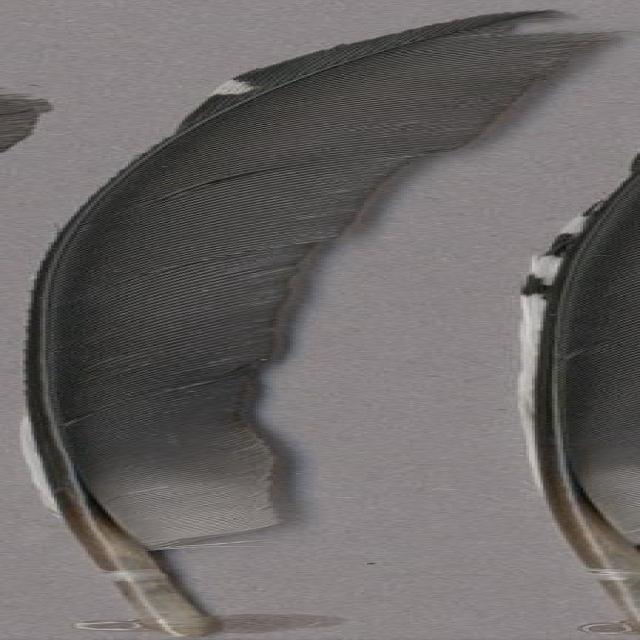feather: (45, 1, 637, 640)
